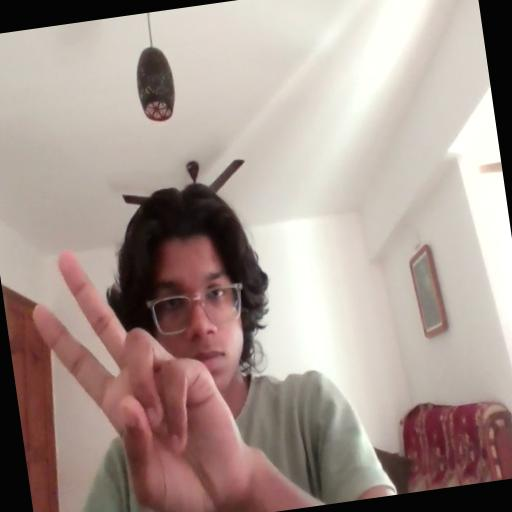scissor: (21, 229, 252, 512)
